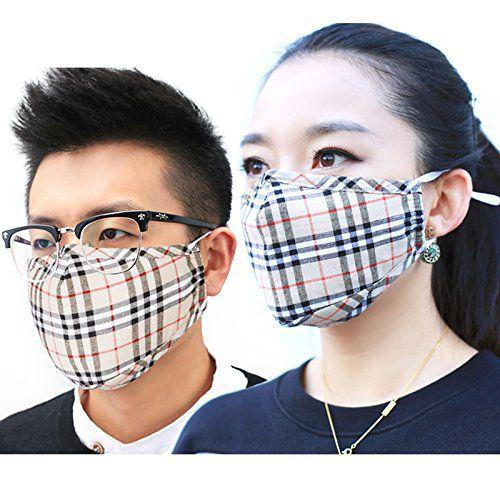OK: (236, 118, 436, 318), (19, 197, 208, 386)
